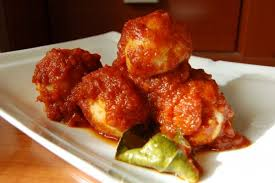rendang: (26, 8, 258, 172)
